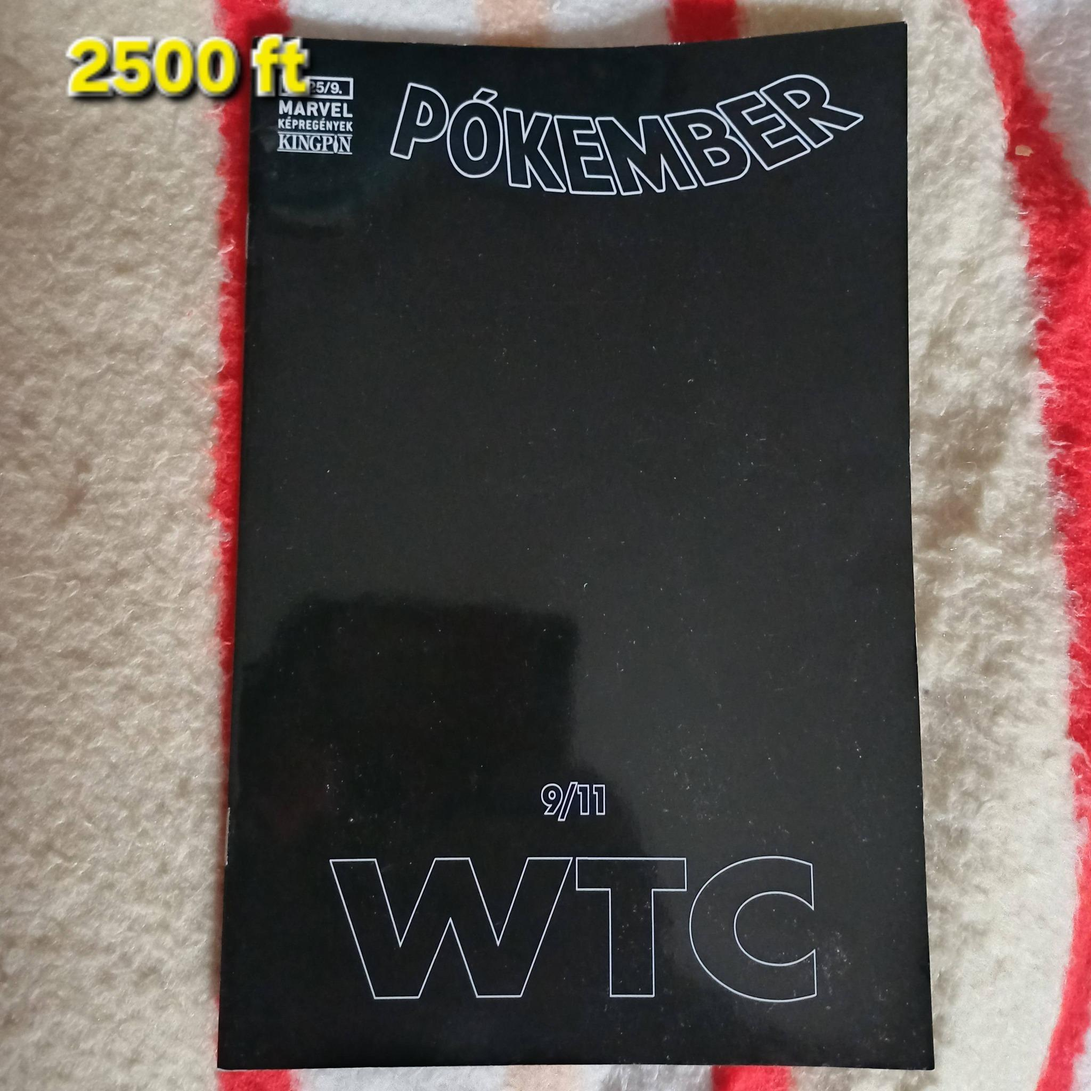comic: (219, 25, 932, 1068)
